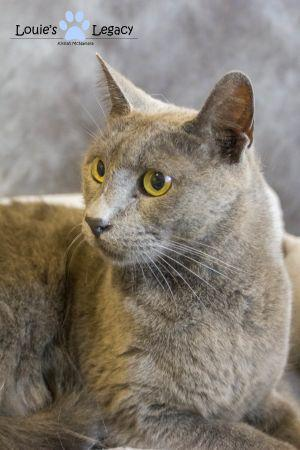rblue: (55, 38, 266, 291)
